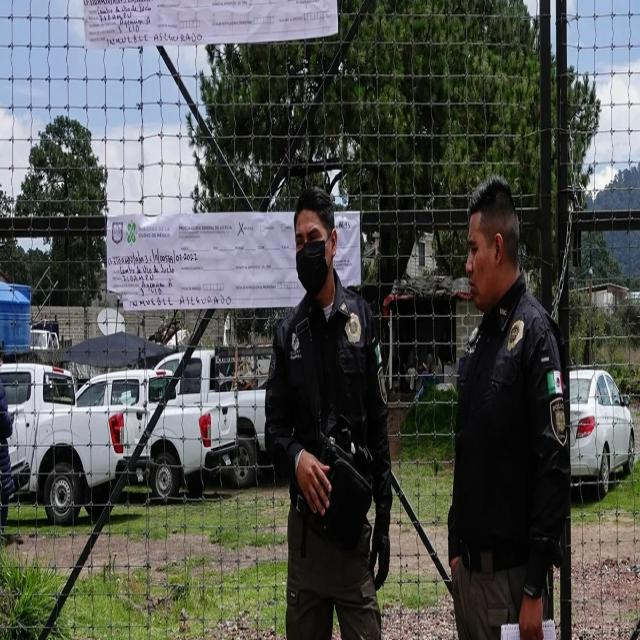stamps: (108, 215, 303, 311), (84, 0, 336, 49)
